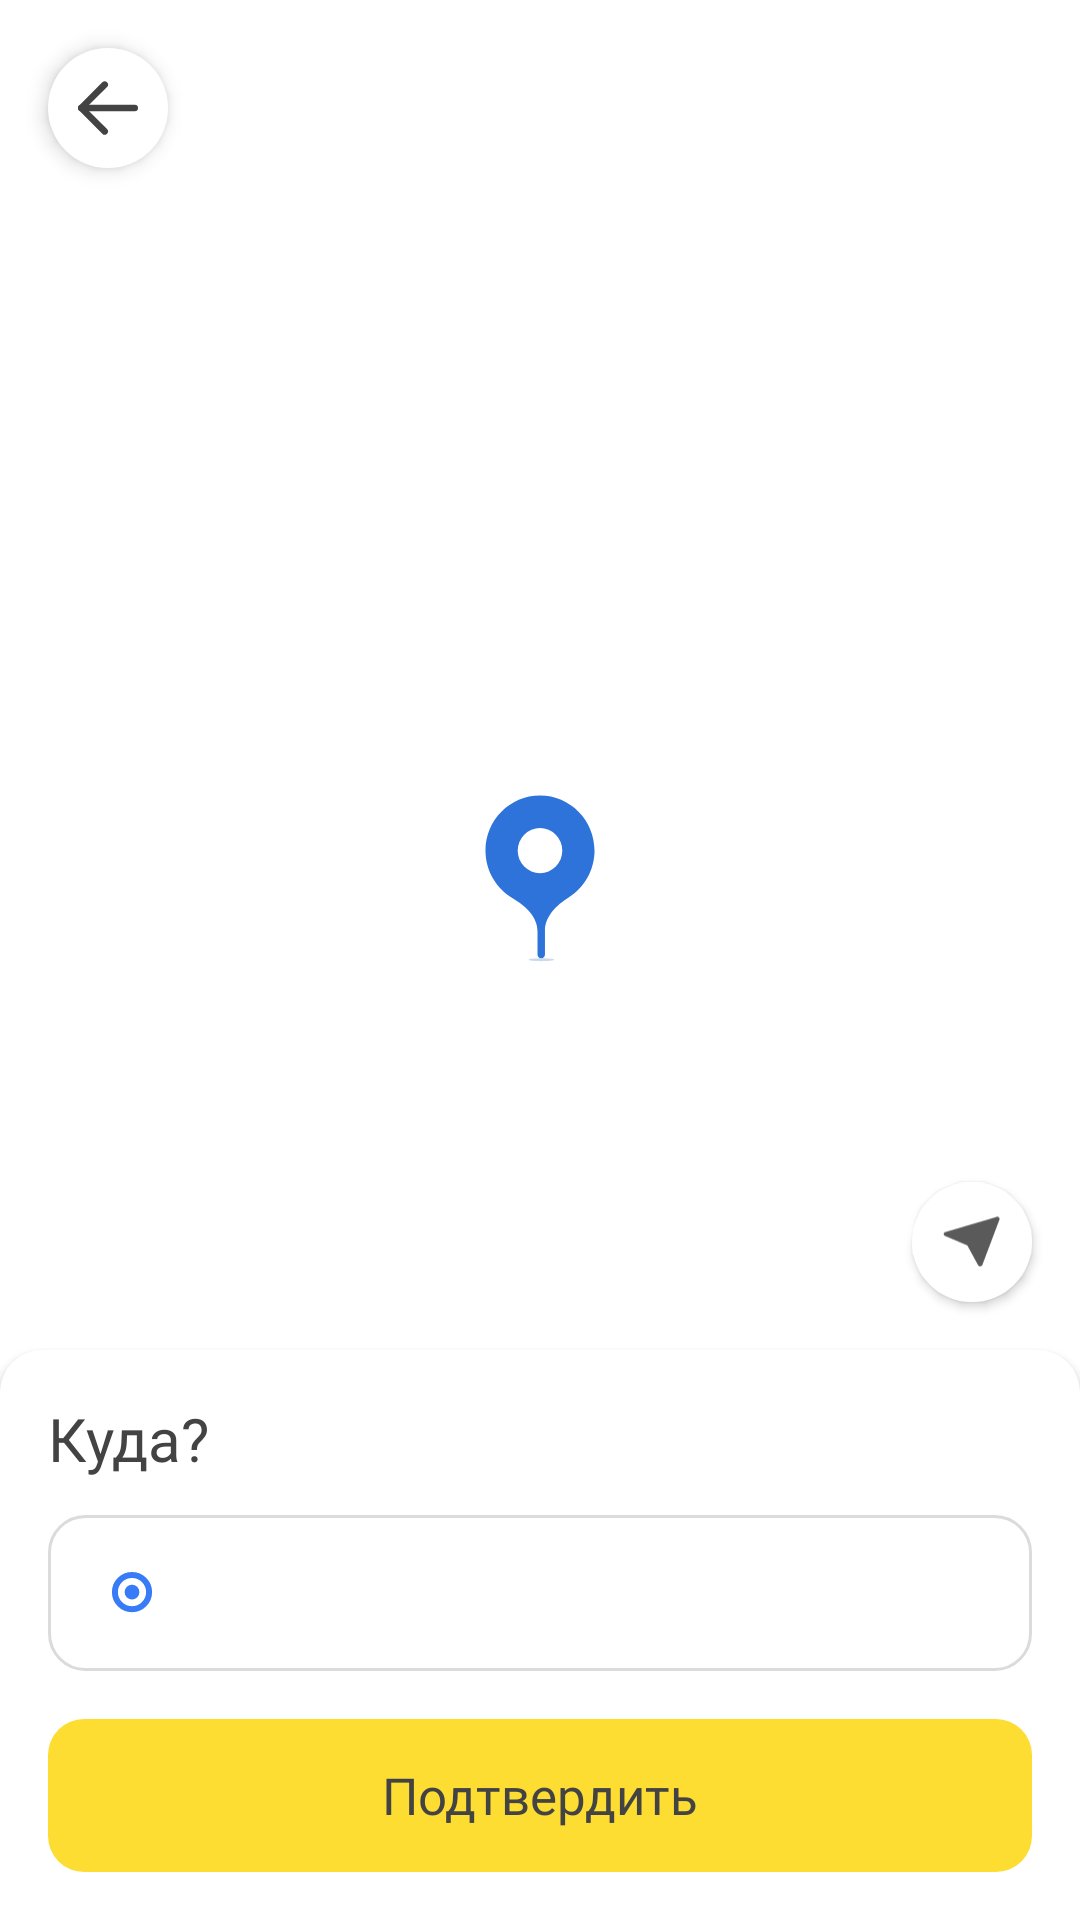

Icon bounding boxes for this 1080×1920 phone screenshot, format (x1, y1, x2, y2):
back: (48, 49, 138, 168)
location: (112, 1572, 152, 1613)
location fab: (919, 1216, 1032, 1302)
map pin: (485, 795, 595, 961)
